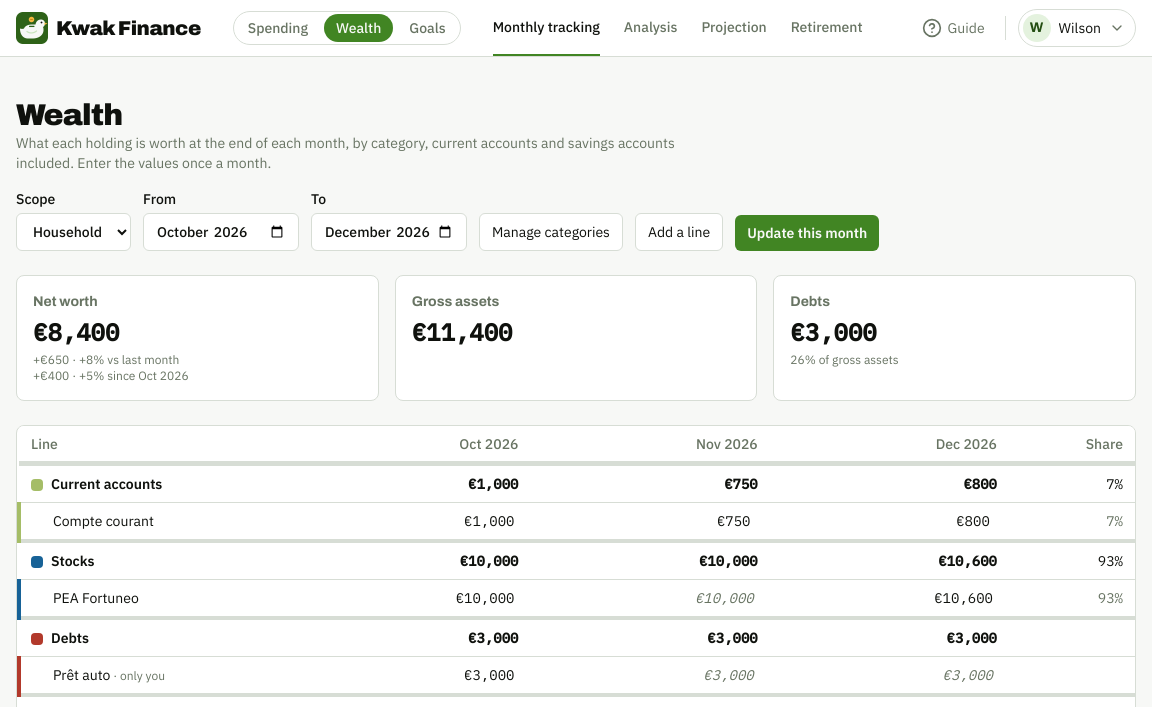
Test case: a period ending before it starts is not asked for
Expected: the field labelled "From" holds "2026-10", [143,213,299,251]
Replace the text in the field labelled "To" with "2026-05" at (389, 232), box [311,213,467,251]
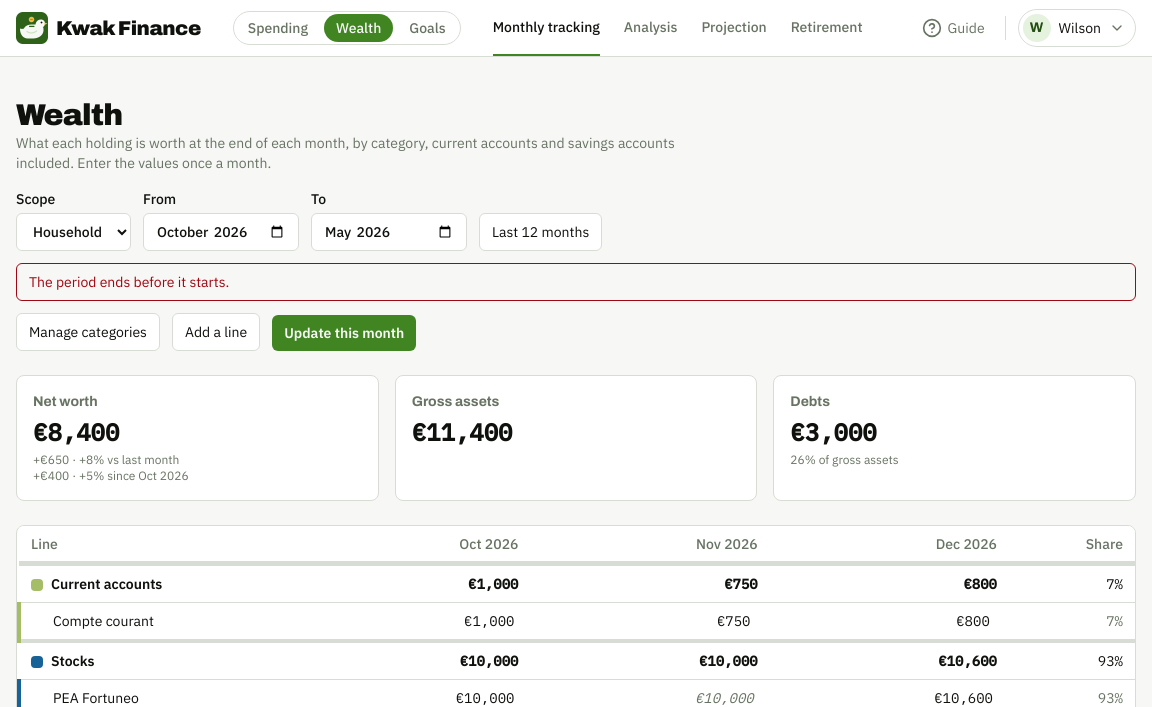
Result: the text "The period ends before it starts." is shown at [16,263,1136,301]
